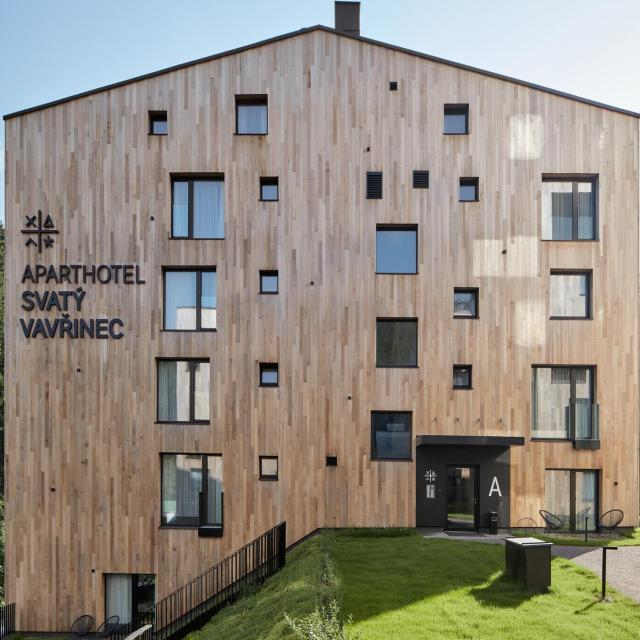door: (445, 466, 476, 531)
railing: (137, 519, 286, 640)
window: (528, 370, 592, 438), (159, 456, 221, 526), (545, 470, 599, 532), (542, 179, 593, 243), (170, 180, 222, 242), (157, 361, 208, 423), (163, 272, 215, 331), (101, 575, 151, 627), (375, 231, 417, 276), (369, 415, 411, 459), (377, 320, 416, 367), (549, 274, 588, 318), (236, 104, 264, 132), (443, 112, 467, 136), (452, 294, 475, 318), (259, 458, 276, 480), (413, 169, 430, 189), (460, 184, 476, 203), (368, 176, 382, 197), (452, 369, 470, 385), (260, 276, 276, 294), (261, 367, 276, 385), (261, 184, 276, 200), (151, 119, 165, 136), (392, 83, 399, 91)
